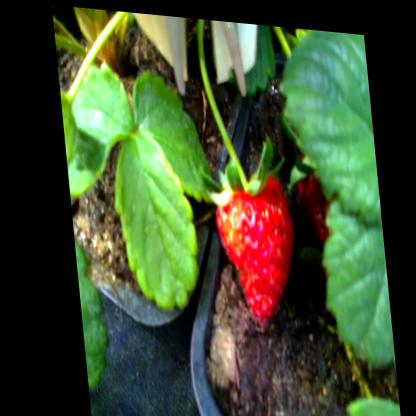ripe: (204, 157, 304, 329)
